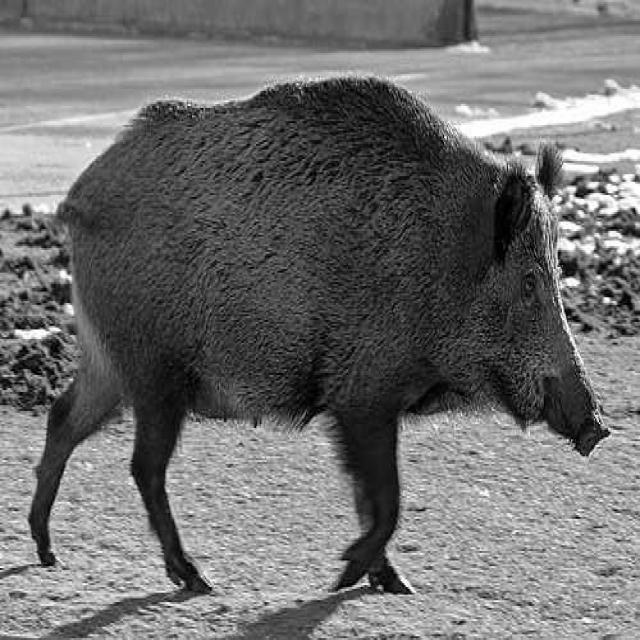boar: (28, 78, 611, 595)
